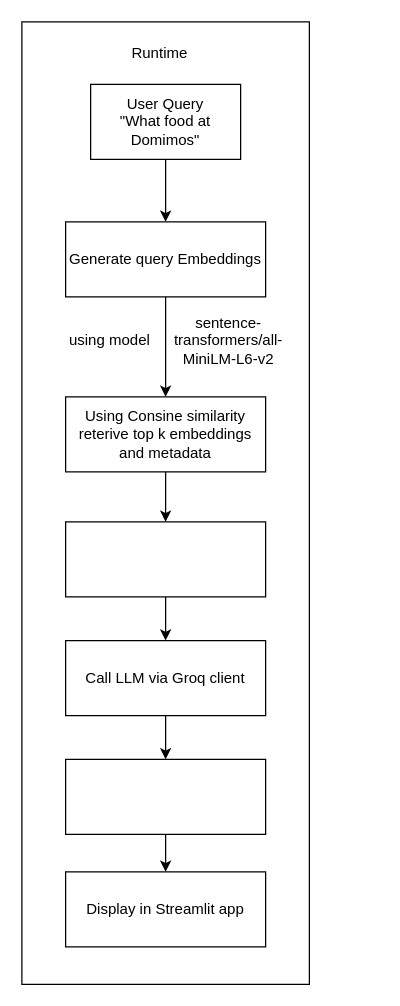
This 400x1006 diagram has some shape labels left out. The shapes that lost their labels are listed below. From the top down, each one's box as (x1, y1, x2, y2) in pixels, then its label:
(64, 521, 266, 597): Compose LLM messages
(64, 758, 266, 834): Receive Assistant Reply
